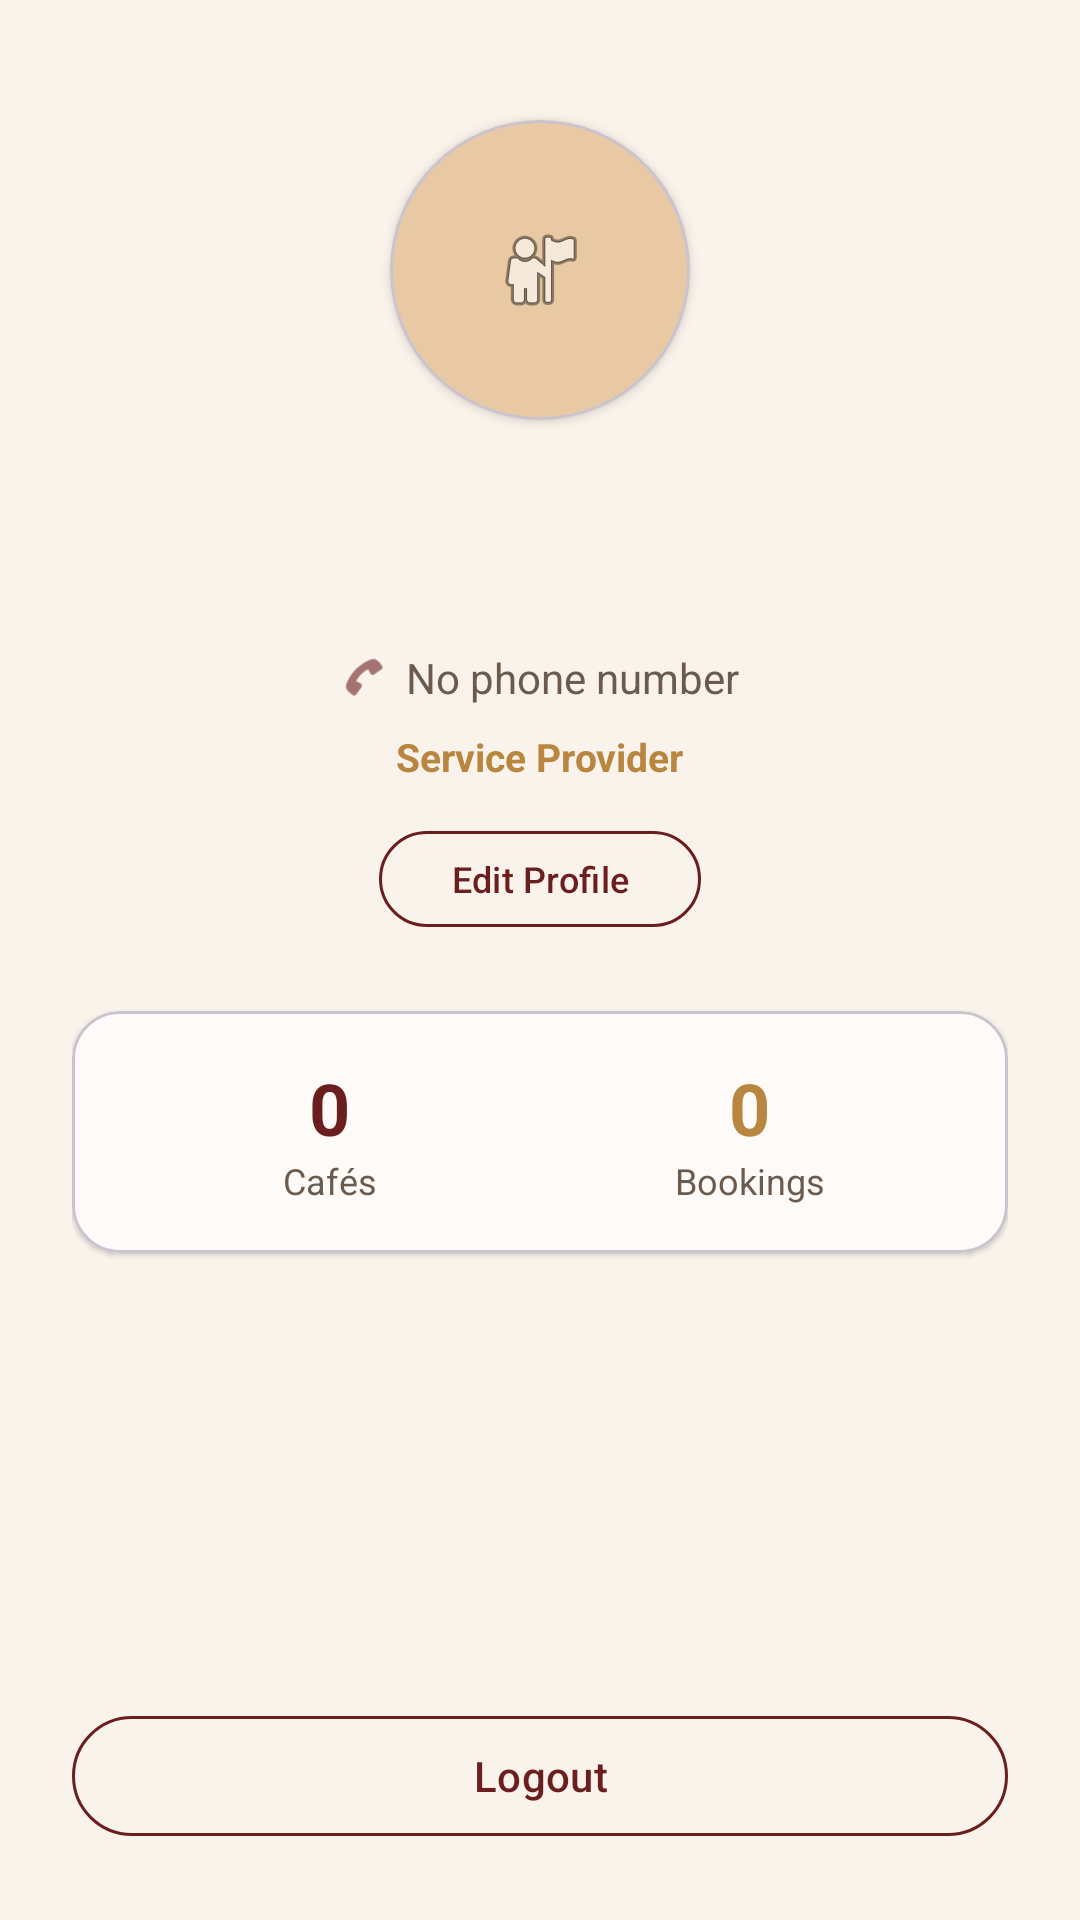

Screen size 1080px x 1920px. Icon name, then its center in pixels as (x,y):
Profile: (540,270)
